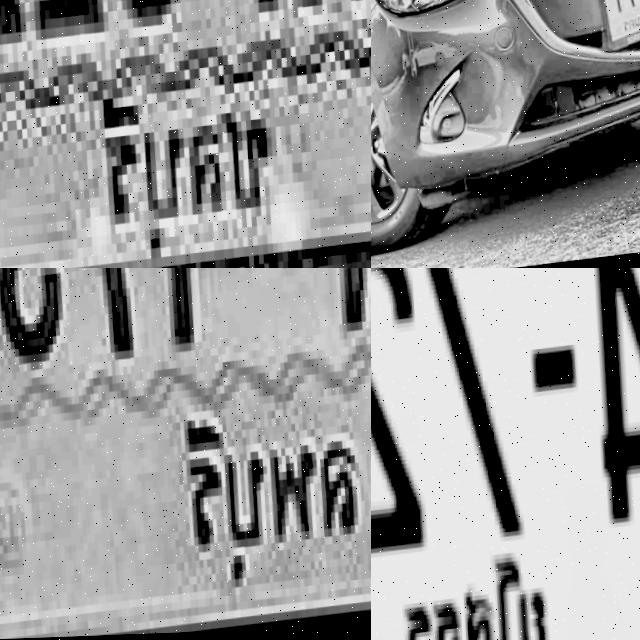license-plate: (0, 268, 371, 640), (371, 268, 640, 640), (0, 0, 371, 268)
